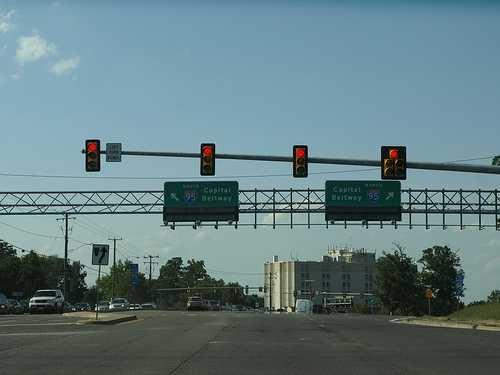red: (380, 145, 406, 180), (291, 144, 313, 180), (202, 140, 219, 178), (82, 141, 101, 171)
